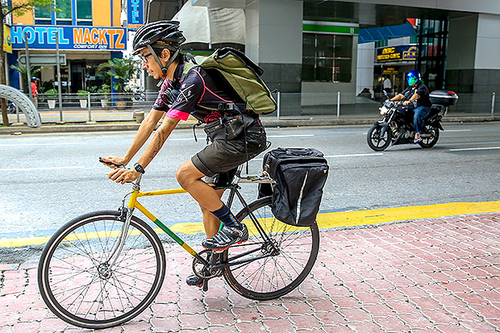bikerider: (40, 18, 359, 333)
